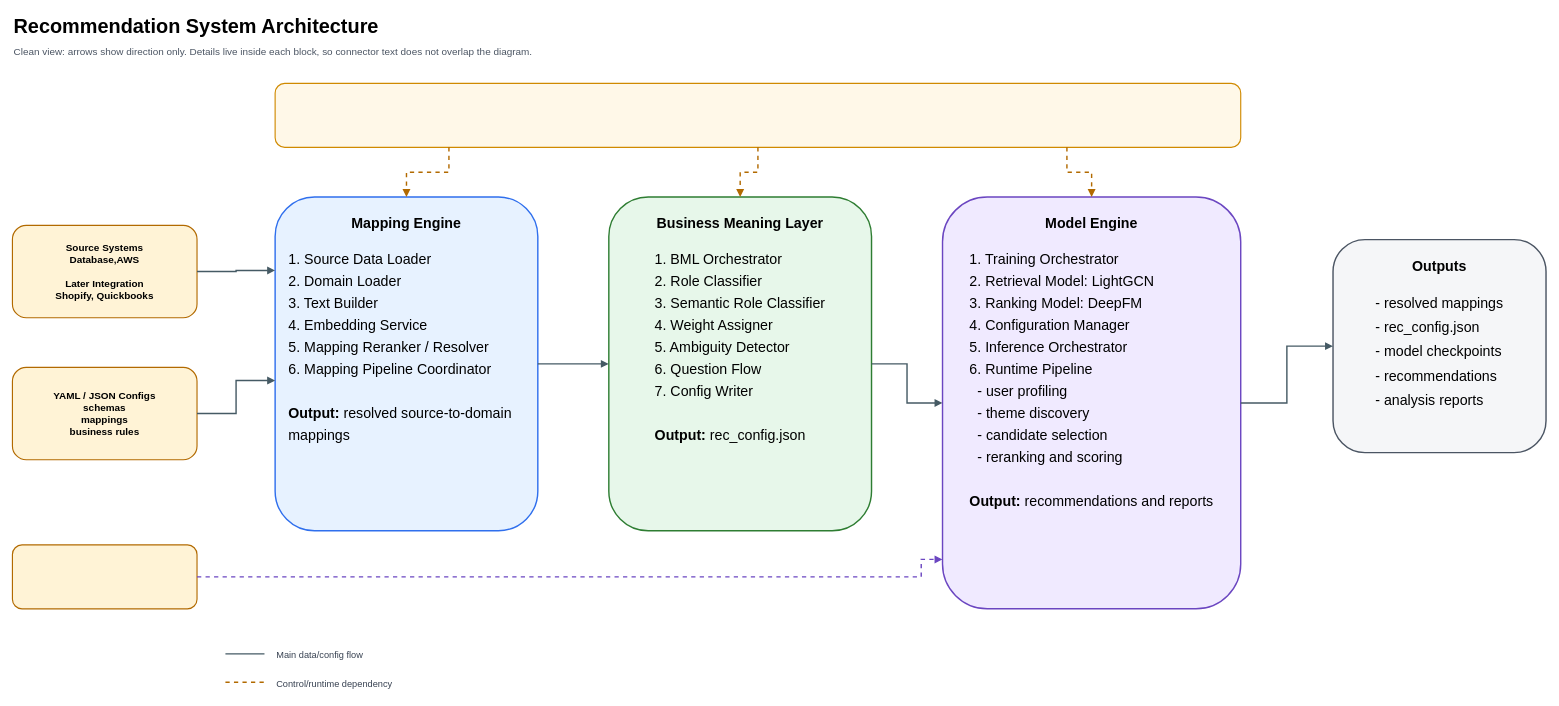
Some shapes in this 1559 by 706 pixel diagram are drawn without their labels. The box of each missing label's shape, as (x1, y1, x2, y2) in pixels:
Pipeline Controls run.py arguments, stage commands, file paths, runtime options: (274, 83, 1241, 148)
RecBole Library model training runtime: (12, 544, 197, 609)
